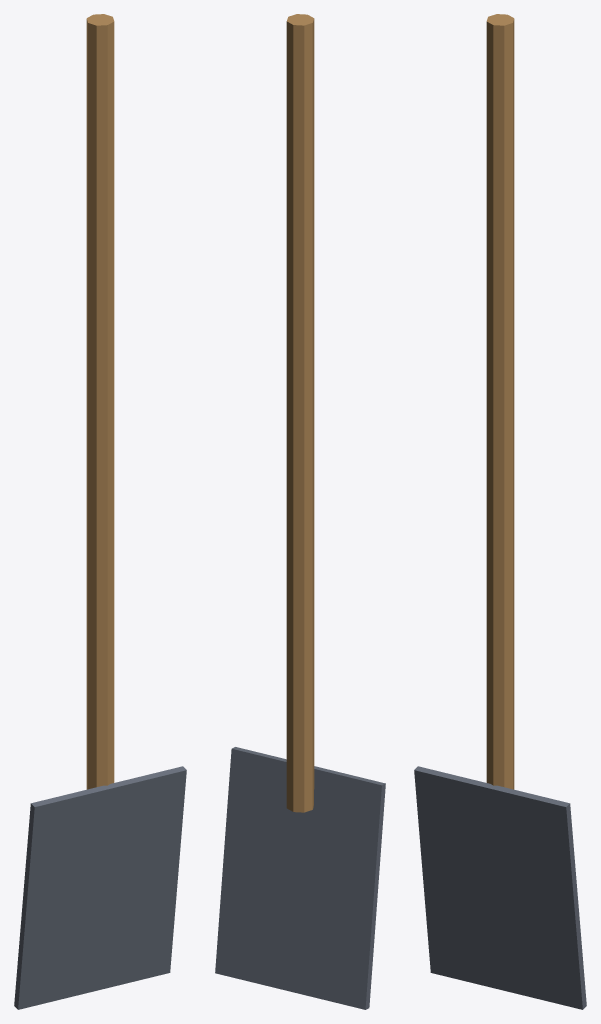
Rendered from plant.tool.shovel.glb.
The picture shows the model from 3 angles, left to right: view 1: azimuth 30°, elevation 25°; view 2: azimuth 150°, elevation 25°; view 3: azimuth 330°, elevation 25°; orthographic projection.
Visible parts, largest first — view 1: main__steel_painted, main__softwood; view 2: main__steel_painted, main__softwood; view 3: main__steel_painted, main__softwood.
Boxes of the visible parts, left/top/right/bottom form: main__steel_painted: left=14, top=766, right=186, bottom=1009; main__softwood: left=86, top=14, right=114, bottom=789; main__steel_painted: left=215, top=747, right=385, bottom=1009; main__softwood: left=286, top=14, right=314, bottom=812; main__steel_painted: left=414, top=766, right=586, bottom=1009; main__softwood: left=486, top=14, right=514, bottom=789.
Bounding box in the file's own units: 0.22 × 1.35 × 0.0517.
